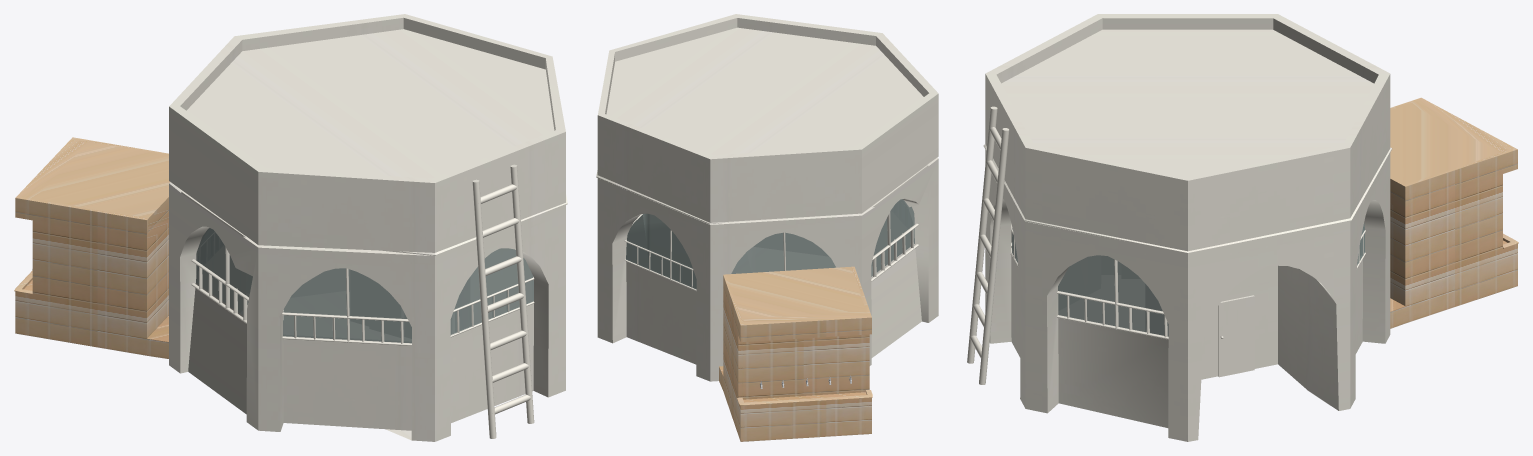
Rendered from BUILDING 1.fbx.
3 views of the same model, side by side, from view 1: azimuth 30°, elevation 25°; view 2: azimuth 150°, elevation 25°; view 3: azimuth 270°, elevation 25° (orthographic). The views are drawn at different scales.
Visible parts, largest first — view 1: polySurface8, pCube4, polySurface17, pCylinder21, polySurface19, polySurface15, polySurface18, polySurface16, polySurface20; view 2: polySurface8, pCube4, polySurface11, polySurface13, polySurface15, polySurface16, polySurface12; view 3: polySurface8, pCube4, polySurface21, pCylinder21, pCube3, polySurface22.
Part boxes in pixels (x1,y1,x2,y2): polySurface8: (169, 14, 567, 441); pCube4: (14, 137, 169, 358); polySurface17: (283, 268, 411, 343); pCylinder21: (472, 164, 534, 438); polySurface19: (450, 248, 533, 334); polySurface15: (196, 228, 252, 315); polySurface18: (282, 268, 411, 345); polySurface16: (191, 247, 248, 323); polySurface20: (450, 277, 534, 337); polySurface8: (596, 14, 938, 381); pCube4: (719, 266, 872, 441); polySurface11: (626, 213, 696, 289); polySurface13: (731, 232, 835, 273); polySurface15: (871, 199, 914, 276); polySurface16: (871, 212, 918, 281); polySurface12: (624, 230, 696, 290); polySurface8: (983, 14, 1392, 441); pCube4: (1390, 97, 1518, 328); polySurface21: (1058, 255, 1168, 336); pCylinder21: (967, 106, 1009, 384); pCube3: (1218, 295, 1254, 377); polySurface22: (1057, 259, 1168, 339).
Bounding box in the file's own units: 12.43 × 7.34 × 13.89.
